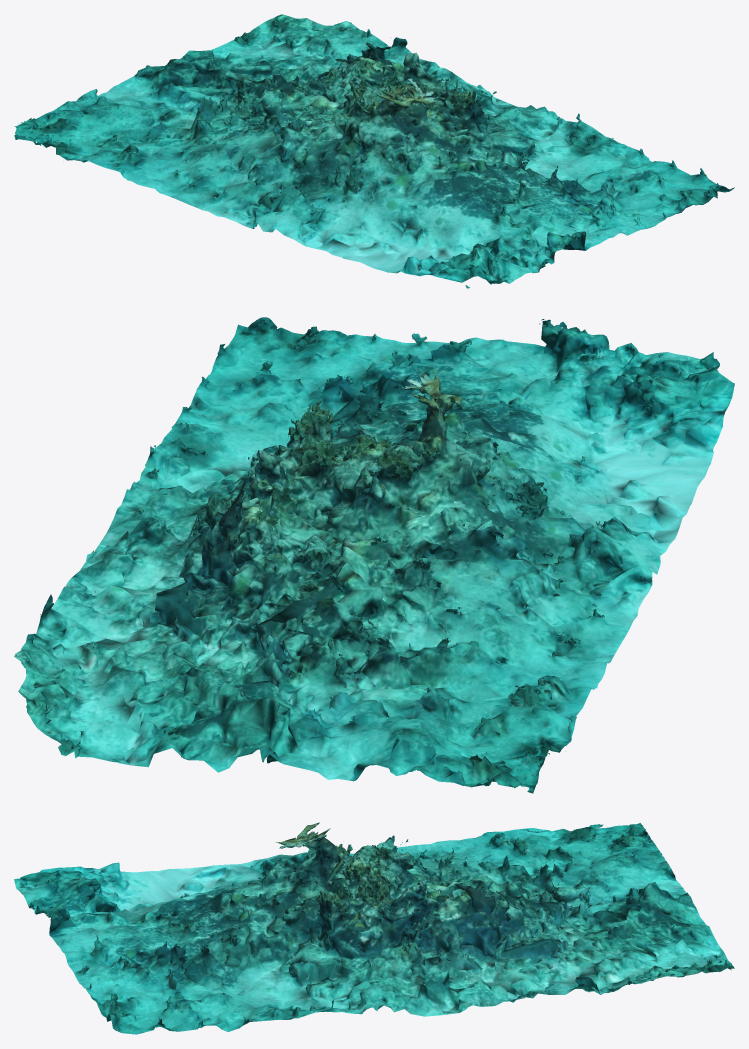
The model's file is reef.glb.
The picture shows the model from 3 angles, top to bottom: view 1: azimuth 30°, elevation 25°; view 2: azimuth 150°, elevation 25°; view 3: azimuth 270°, elevation 25°; orthographic projection. The views are drawn at different scales.
Visible parts, largest first — view 1: Object_2; view 2: Object_2; view 3: Object_2.
Boxes of the visible parts, x1,y1,x2,y2 form: Object_2: [14, 14, 734, 288]; Object_2: [14, 317, 734, 793]; Object_2: [14, 822, 734, 1034].
Size of the model in its own units: 11.14 by 2.8 by 14.96.
1 material, 1 textured.
